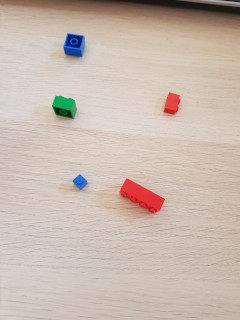1x1 blue: (72, 174, 89, 190)
1x2 red: (163, 90, 182, 115)
2x2 blue: (63, 31, 86, 57)
2x2 green: (51, 94, 79, 121)
2x4 red: (119, 177, 166, 212)
